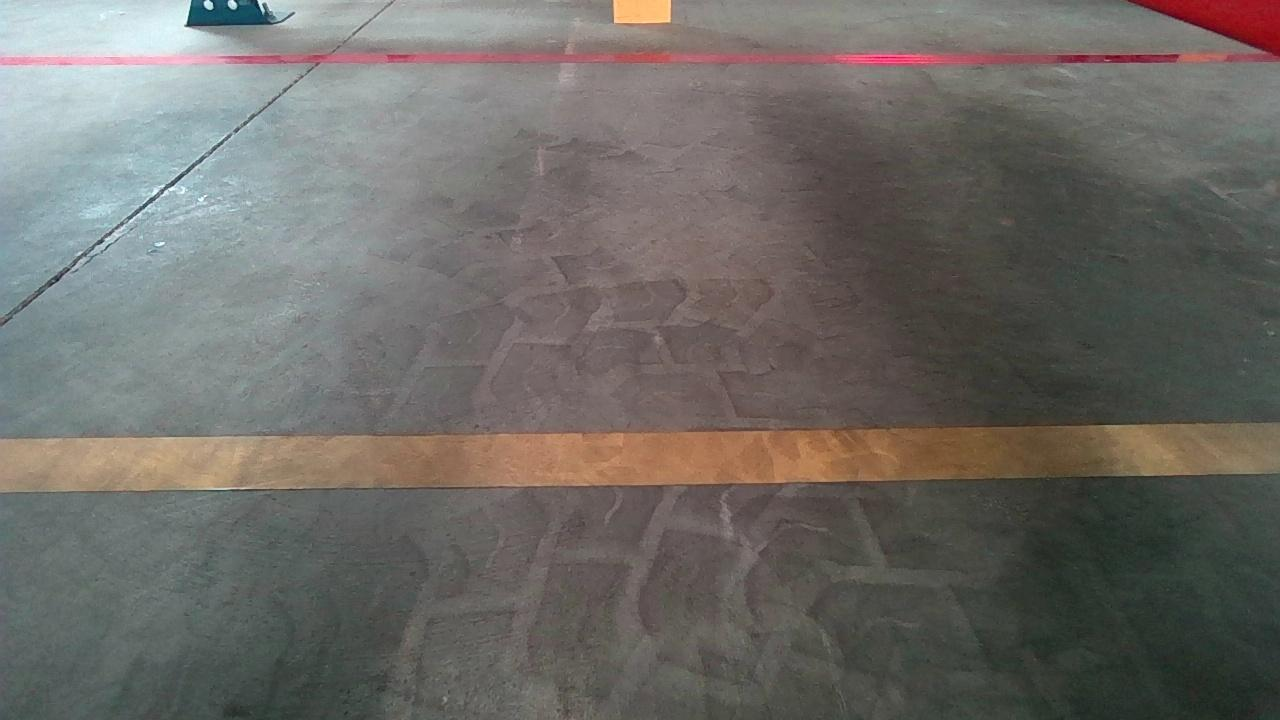orange_strip: (612, 0, 674, 26)
red_line: (6, 46, 1262, 74)
yellow_line: (0, 419, 1270, 492)
